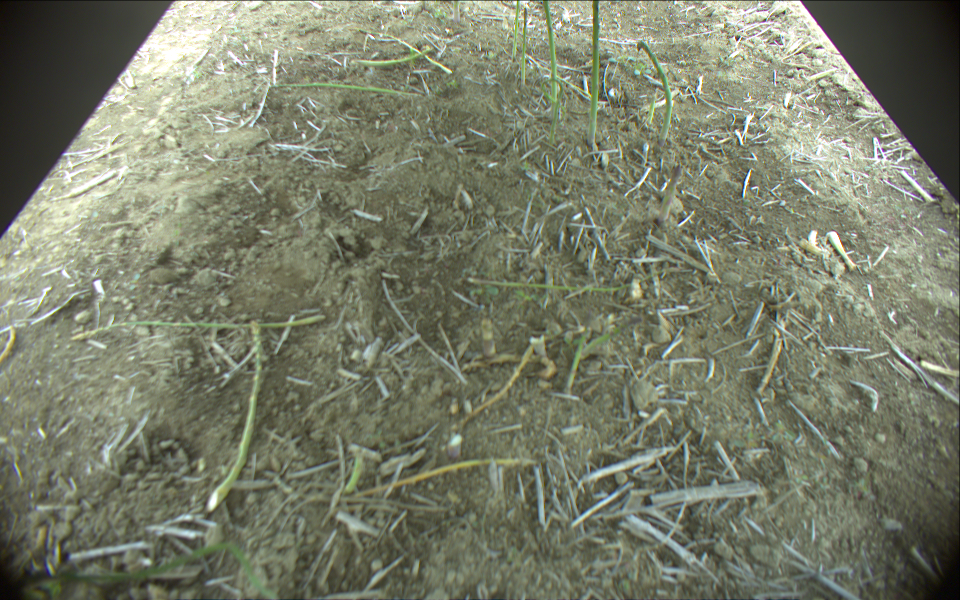aspa: (206, 316, 265, 514), (56, 311, 327, 343), (357, 26, 452, 76), (638, 39, 676, 136), (270, 80, 426, 99), (537, 1, 565, 101), (580, 319, 644, 361), (350, 45, 433, 69), (655, 162, 684, 229), (541, 78, 567, 143), (589, 1, 599, 148), (565, 331, 586, 398), (513, 1, 523, 61), (521, 8, 528, 87), (646, 88, 658, 125), (453, 1, 458, 23)
